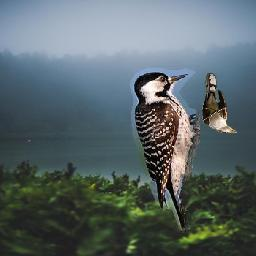Cuckoo: (201, 73, 237, 133)
Woodpecker: (130, 67, 200, 233)
